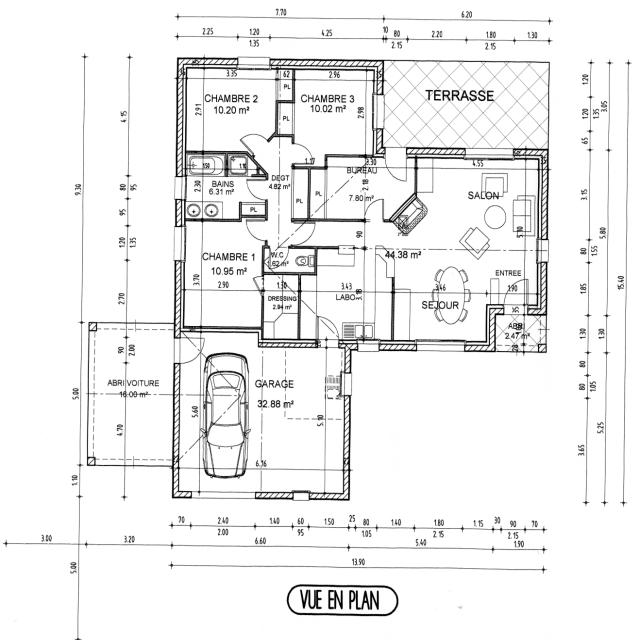door: (177, 331, 204, 364), (501, 277, 529, 304), (384, 155, 410, 183), (241, 123, 267, 151), (316, 314, 340, 344), (362, 195, 387, 223), (243, 216, 268, 242), (244, 176, 269, 201), (290, 139, 315, 164), (292, 219, 316, 245), (278, 273, 298, 293), (251, 274, 266, 291)
window: (414, 338, 467, 354), (194, 488, 256, 501), (170, 223, 188, 266), (463, 147, 516, 159), (371, 94, 384, 136), (175, 172, 188, 202), (341, 371, 354, 400), (237, 58, 268, 70), (357, 338, 383, 352), (536, 238, 548, 264), (292, 491, 306, 501)
zone: (178, 332, 345, 497), (394, 160, 539, 340), (303, 244, 395, 342), (183, 69, 278, 152), (292, 70, 377, 158), (181, 219, 265, 291), (313, 157, 403, 220), (184, 174, 266, 219), (262, 272, 300, 343), (493, 313, 540, 351), (267, 247, 316, 272), (184, 153, 226, 174), (276, 100, 294, 136), (226, 153, 252, 175), (282, 273, 299, 291)
